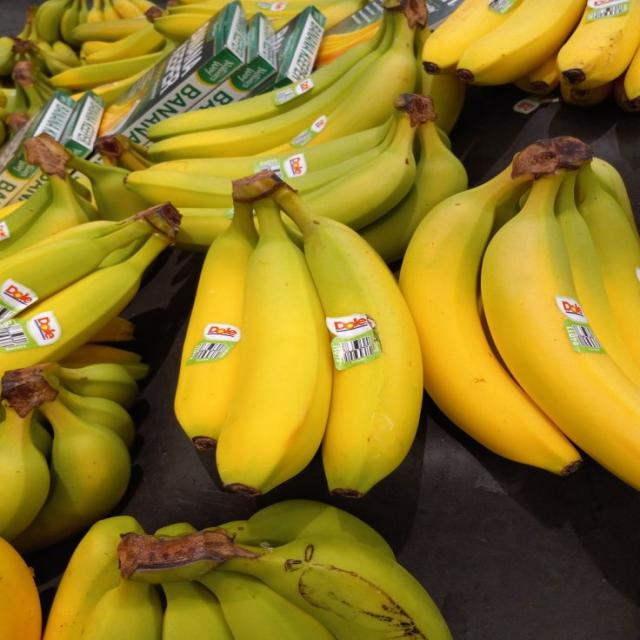unpeal banana: (400, 166, 579, 473), (481, 170, 639, 487), (269, 178, 422, 497), (150, 13, 414, 161), (119, 530, 451, 639), (216, 201, 332, 495), (0, 206, 179, 370), (147, 25, 390, 140), (3, 368, 130, 552), (174, 203, 257, 448), (555, 172, 639, 386), (359, 109, 467, 262), (576, 166, 639, 365), (44, 516, 143, 639), (456, 0, 584, 84), (221, 500, 394, 558), (199, 571, 334, 639), (557, 0, 639, 90), (422, 0, 521, 74), (0, 402, 49, 540), (162, 580, 233, 639), (0, 538, 41, 639)
